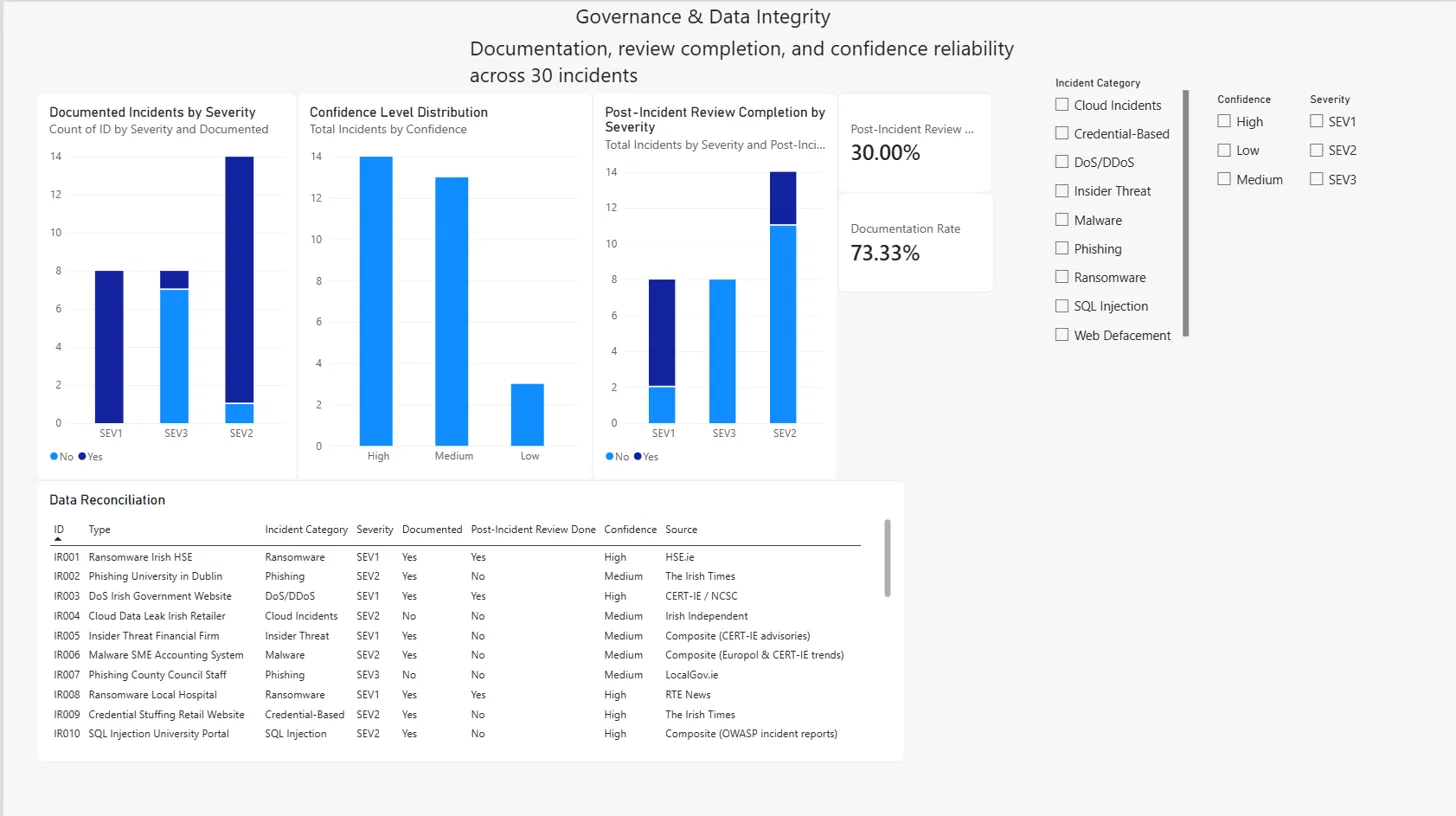

What the dashboard file says about the page in this screenshot:
{"tool":"powerbi","page":{"name":"Governance & Data Integrity","canvas":[1920,1080],"ordinal":2},"visuals":[{"type":"textbox","box":[756,0,580,84],"z":0},{"type":"textbox","box":[466,42,958,78],"z":1000},{"type":"slicer","fields":{"Values":["CyberIncidents.Incident Category"]},"box":[1382,98,184,356],"z":2000},{"type":"cardVisual","fields":{"Data":["CyberIncidents.Documentation Rate"]},"box":[1102,252,206,132],"z":3000},{"type":"cardVisual","fields":{"Data":["CyberIncidents.Post-Incident Review Completion Rate"]},"box":[1102,120,204,132],"z":4000},{"type":"columnChart","title":"Documented Incidents by Severity","fields":{"Category":["CyberIncidents.Severity"],"Series":["CyberIncidents.Documented"],"Y":["CountNonNull(CyberIncidents.ID)"]},"box":[44,120,344,512],"z":5000},{"type":"columnChart","title":"Post-Incident Review Completion by Severity","fields":{"Category":["CyberIncidents.Severity"],"Series":["CyberIncidents.Post-Incident Review Done"],"Y":["CyberIncidents.Total Incidents"]},"box":[778,120,324,512],"z":6000},{"type":"slicer","fields":{"Values":["CyberIncidents.Confidence"]},"box":[1596,120,202,356],"z":7000},{"type":"slicer","fields":{"Values":["CyberIncidents.Severity"]},"box":[1718,120,202,356],"z":8000},{"type":"clusteredColumnChart","title":"Confidence Level Distribution","fields":{"Category":["CyberIncidents.Confidence"],"Y":["CyberIncidents.Total Incidents"]},"box":[388,120,390,512],"z":9000},{"type":"tableEx","title":"Data Reconciliation","fields":{"Values":["CyberIncidents.ID","CyberIncidents.Type","CyberIncidents.Incident Category","CyberIncidents.Severity","CyberIncidents.Documented","CyberIncidents.Post-Incident Review Done","CyberIncidents.Confidence","CyberIncidents.Source"]},"box":[44,632,1146,372],"z":10000}]}

Visuals, with their boxes in screenshot pixels (x1, y1, x2, y2), scaled from the page's 1920x1080 canvas onto the 1456x816 screenshot:
textbox: 573/0/1013/63
textbox: 353/32/1080/91
slicer - CyberIncidents.Incident Category: 1048/74/1188/343
cardVisual - CyberIncidents.Documentation Rate: 836/190/992/290
cardVisual - CyberIncidents.Post-Incident Review Completion Rate: 836/91/990/190
"Documented Incidents by Severity" columnChart: 33/91/294/478
"Post-Incident Review Completion by Severity" columnChart: 590/91/836/478
slicer - CyberIncidents.Confidence: 1210/91/1363/360
slicer - CyberIncidents.Severity: 1303/91/1455/360
"Confidence Level Distribution" clusteredColumnChart: 294/91/590/478
"Data Reconciliation" tableEx: 33/478/902/759
